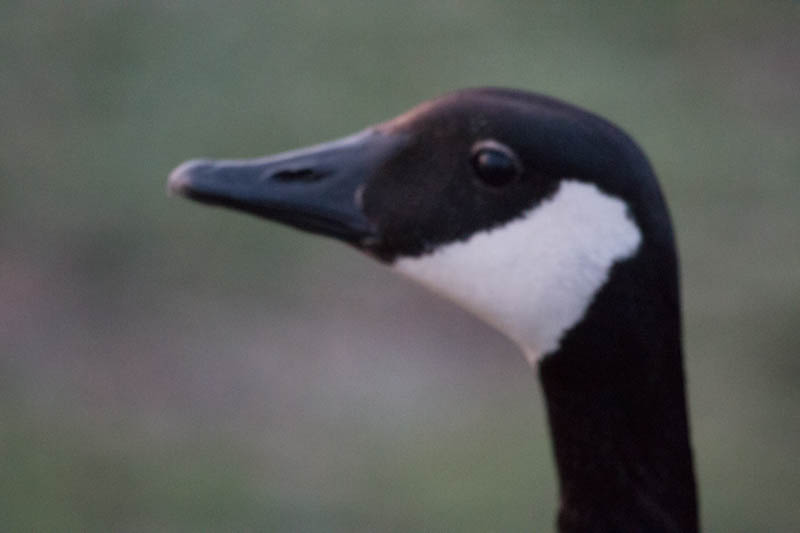goose-head: (165, 87, 685, 371)
